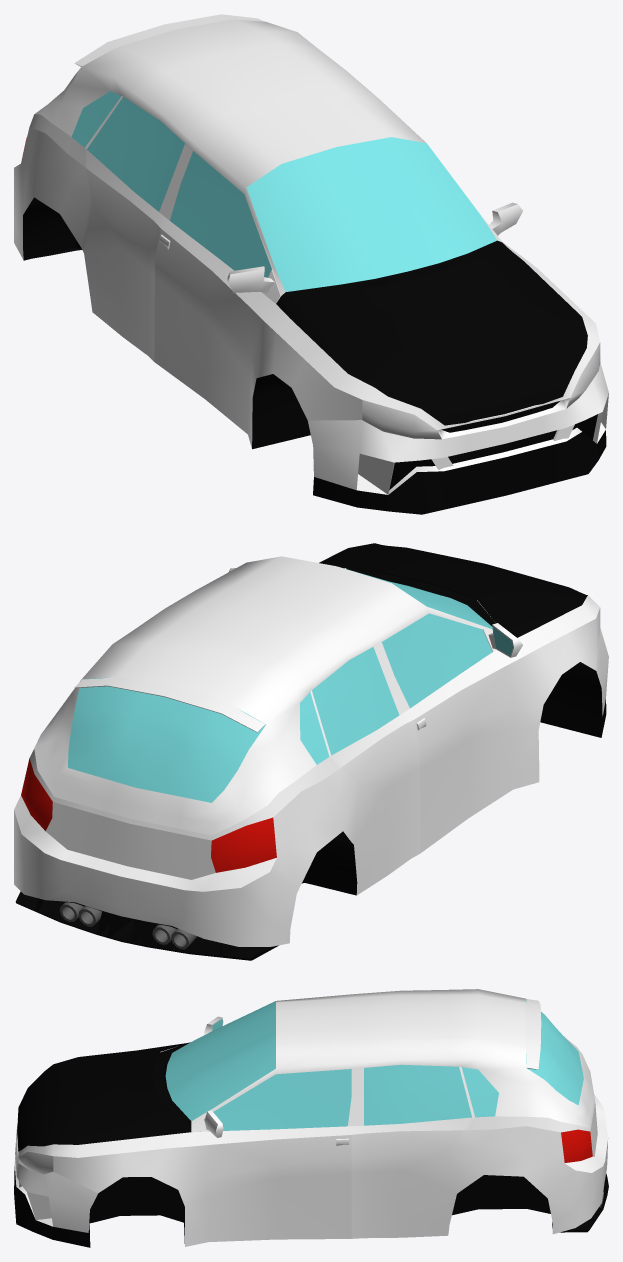
File: gc14_body_kit3.glb
The picture shows the model from 3 angles, top to bottom: view 1: azimuth 30°, elevation 25°; view 2: azimuth 150°, elevation 25°; view 3: azimuth 270°, elevation 25°; orthographic projection. The views are drawn at different scales.
Parts seen in each view (by area): view 1: Body_Kit3; view 2: Body_Kit3; view 3: Body_Kit3.
Part boxes in pixels (x1=…): Body_Kit3: x1=14, y1=14, x2=608, y2=514; Body_Kit3: x1=14, y1=543, x2=608, y2=960; Body_Kit3: x1=14, y1=989, x2=608, y2=1247.
Bounding box in the file's own units: 1.97 × 1.49 × 4.46.
